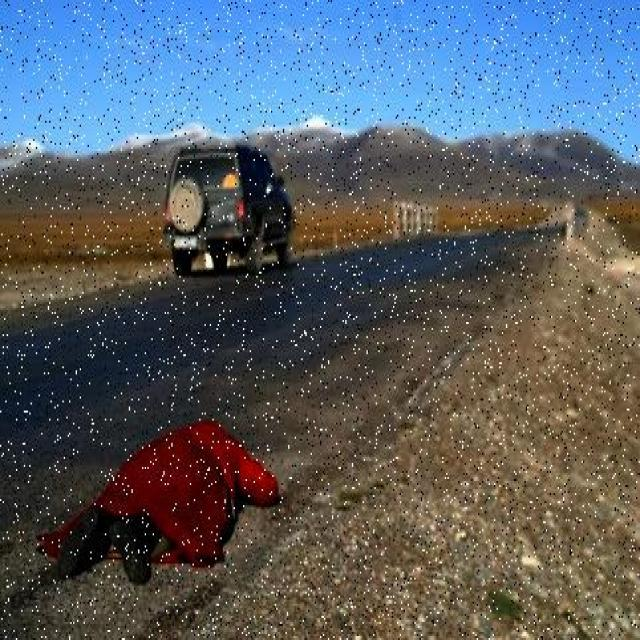fall: (59, 420, 268, 580)
